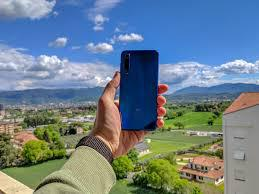Hand: (96, 73, 169, 147)
Smartphone: (122, 50, 159, 132)
